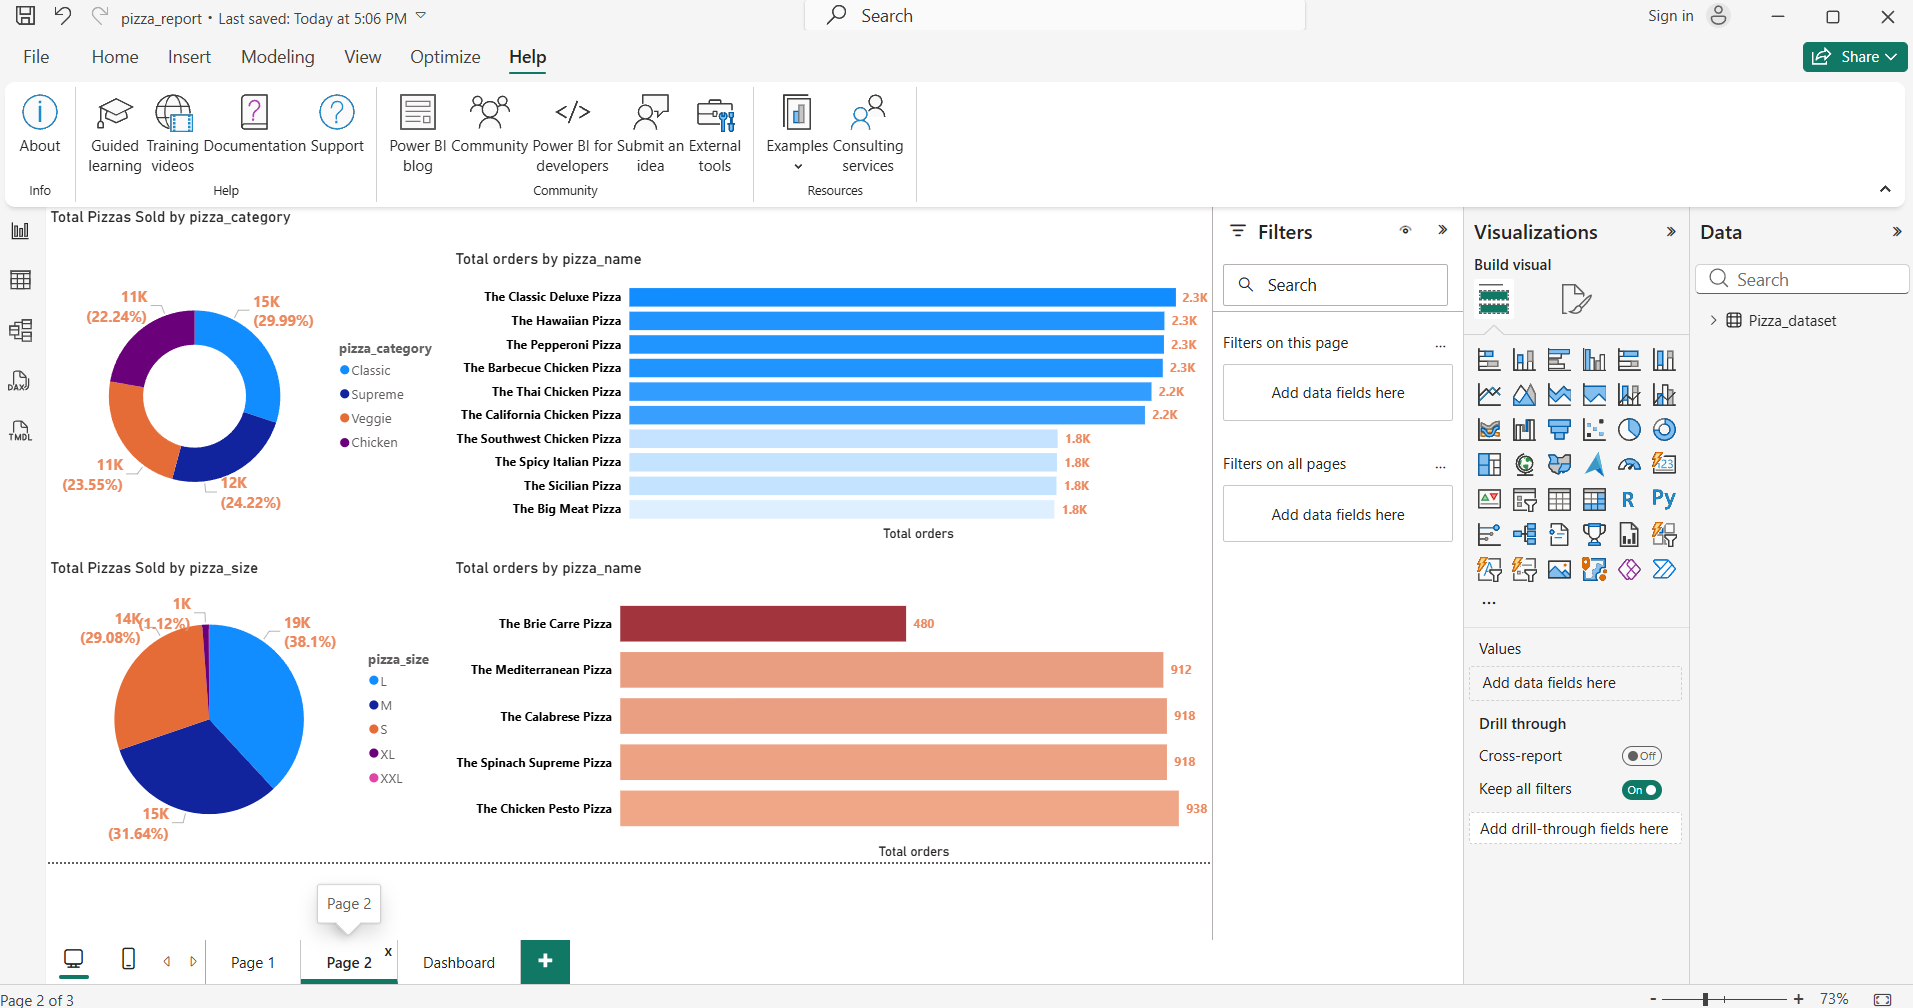

The page's visual inventory and layout, read from the dashboard file:
{"tool":"powerbi","page":{"name":"Page 2","canvas":[1280,720],"ordinal":1},"visuals":[{"type":"donutChart","fields":{"Y":["Pizza_dataset.Total Pizzas Sold"],"Category":["Pizza_dataset.pizza_category"]},"box":[0,0,444.6,396.6],"z":0},{"type":"pieChart","fields":{"Category":["Pizza_dataset.pizza_size"],"Y":["Pizza_dataset.Total Pizzas Sold"]},"box":[0,385.6,444.6,334.8],"z":1000},{"type":"barChart","fields":{"Category":["Pizza_dataset.pizza_name"],"Y":["Pizza_dataset.Total orders"]},"box":[444.6,46.7,835.7,325.2],"z":2000},{"type":"clusteredBarChart","fields":{"Category":["Pizza_dataset.pizza_name"],"Y":["Pizza_dataset.Total orders"]},"box":[444.6,385.6,835.7,334.8],"z":3000}]}

Visuals, with their boxes on the page's 1280x720 design canvas (x1, y1, x2, y2). These are canvas units, not pixel positions in the 1913x1008 screenshot, which may show the page scaled, cropped or inside an application window:
donutChart - Pizza_dataset.Total Pizzas Sold x Pizza_dataset.pizza_category: left=0, top=0, right=445, bottom=397
pieChart - Pizza_dataset.pizza_size x Pizza_dataset.Total Pizzas Sold: left=0, top=386, right=445, bottom=720
barChart - Pizza_dataset.pizza_name x Pizza_dataset.Total orders: left=445, top=47, right=1280, bottom=372
clusteredBarChart - Pizza_dataset.pizza_name x Pizza_dataset.Total orders: left=445, top=386, right=1280, bottom=720
